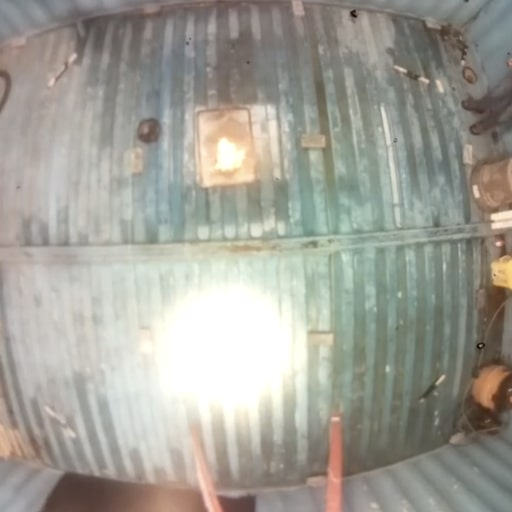Fire: (213, 136, 245, 173)
